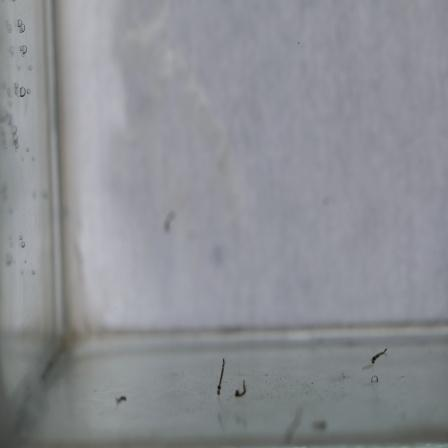Jentik-Nyamuk: (212, 354, 231, 399), (230, 378, 255, 400), (368, 343, 389, 367), (110, 390, 131, 409)
